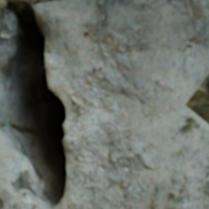brick: (0, 0, 208, 208), (0, 7, 11, 108)
crack: (0, 2, 66, 206)
